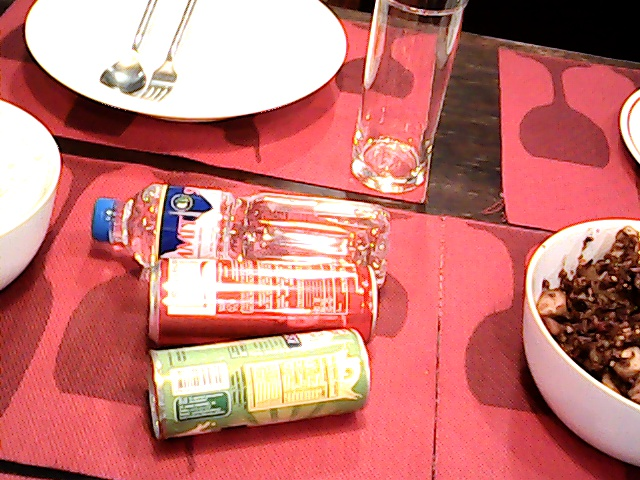Cola: (145, 250, 398, 341)
Pine Juice: (134, 326, 393, 445)
Summit Water: (90, 169, 392, 259)
